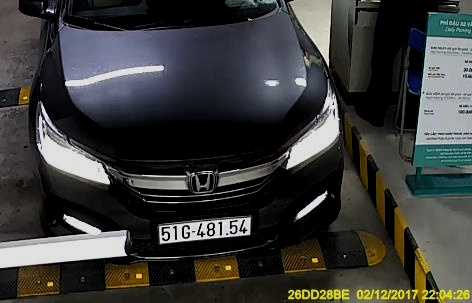plate: (156, 215, 253, 243)
